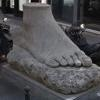Statue: (10, 2, 91, 76)
